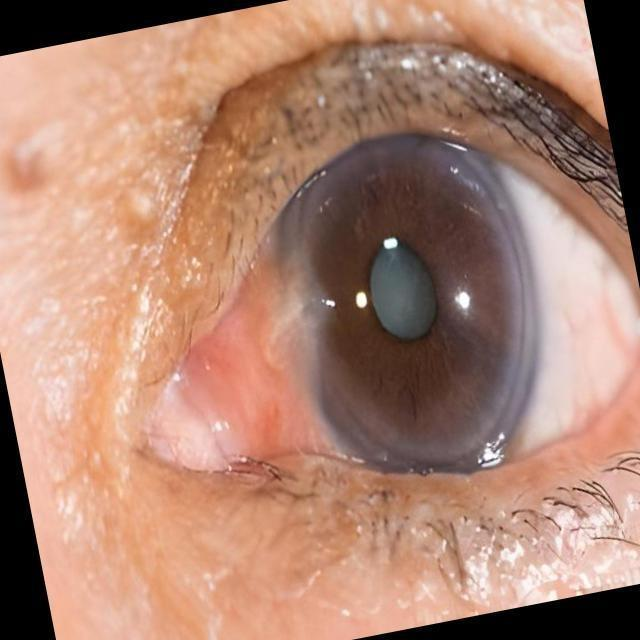Pterygium: (153, 224, 372, 474)
